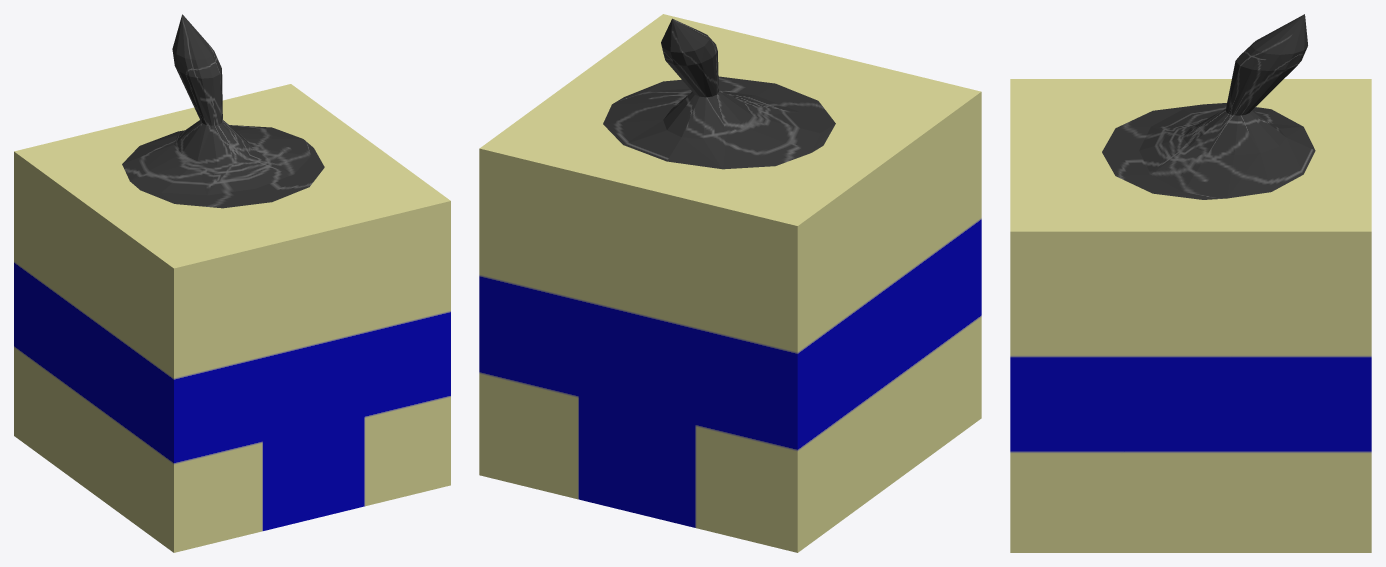
Rendered from SumoBlue.fbx.
3 renders of one model, left to right at view 1: azimuth 30°, elevation 25°; view 2: azimuth 150°, elevation 25°; view 3: azimuth 270°, elevation 25°, orthographic. The views are drawn at different scales.
Visible parts, largest first — view 1: Box01, Cylinder01; view 2: Box01, Cylinder01; view 3: Box01, Cylinder01.
Part boxes in pixels (<box>): Box01: <box>14,84,450,552</box>; Cylinder01: <box>122,14,324,208</box>; Box01: <box>479,14,981,552</box>; Cylinder01: <box>603,18,835,169</box>; Box01: <box>1010,79,1371,552</box>; Cylinder01: <box>1102,14,1315,199</box>.
Size of the model in its own units: 39.75 by 56.17 by 39.75.
